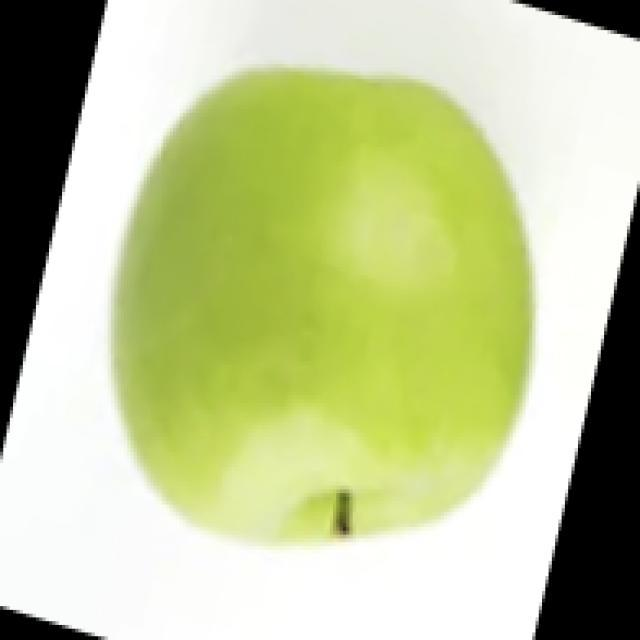Fresh Apple: (114, 58, 528, 545)
